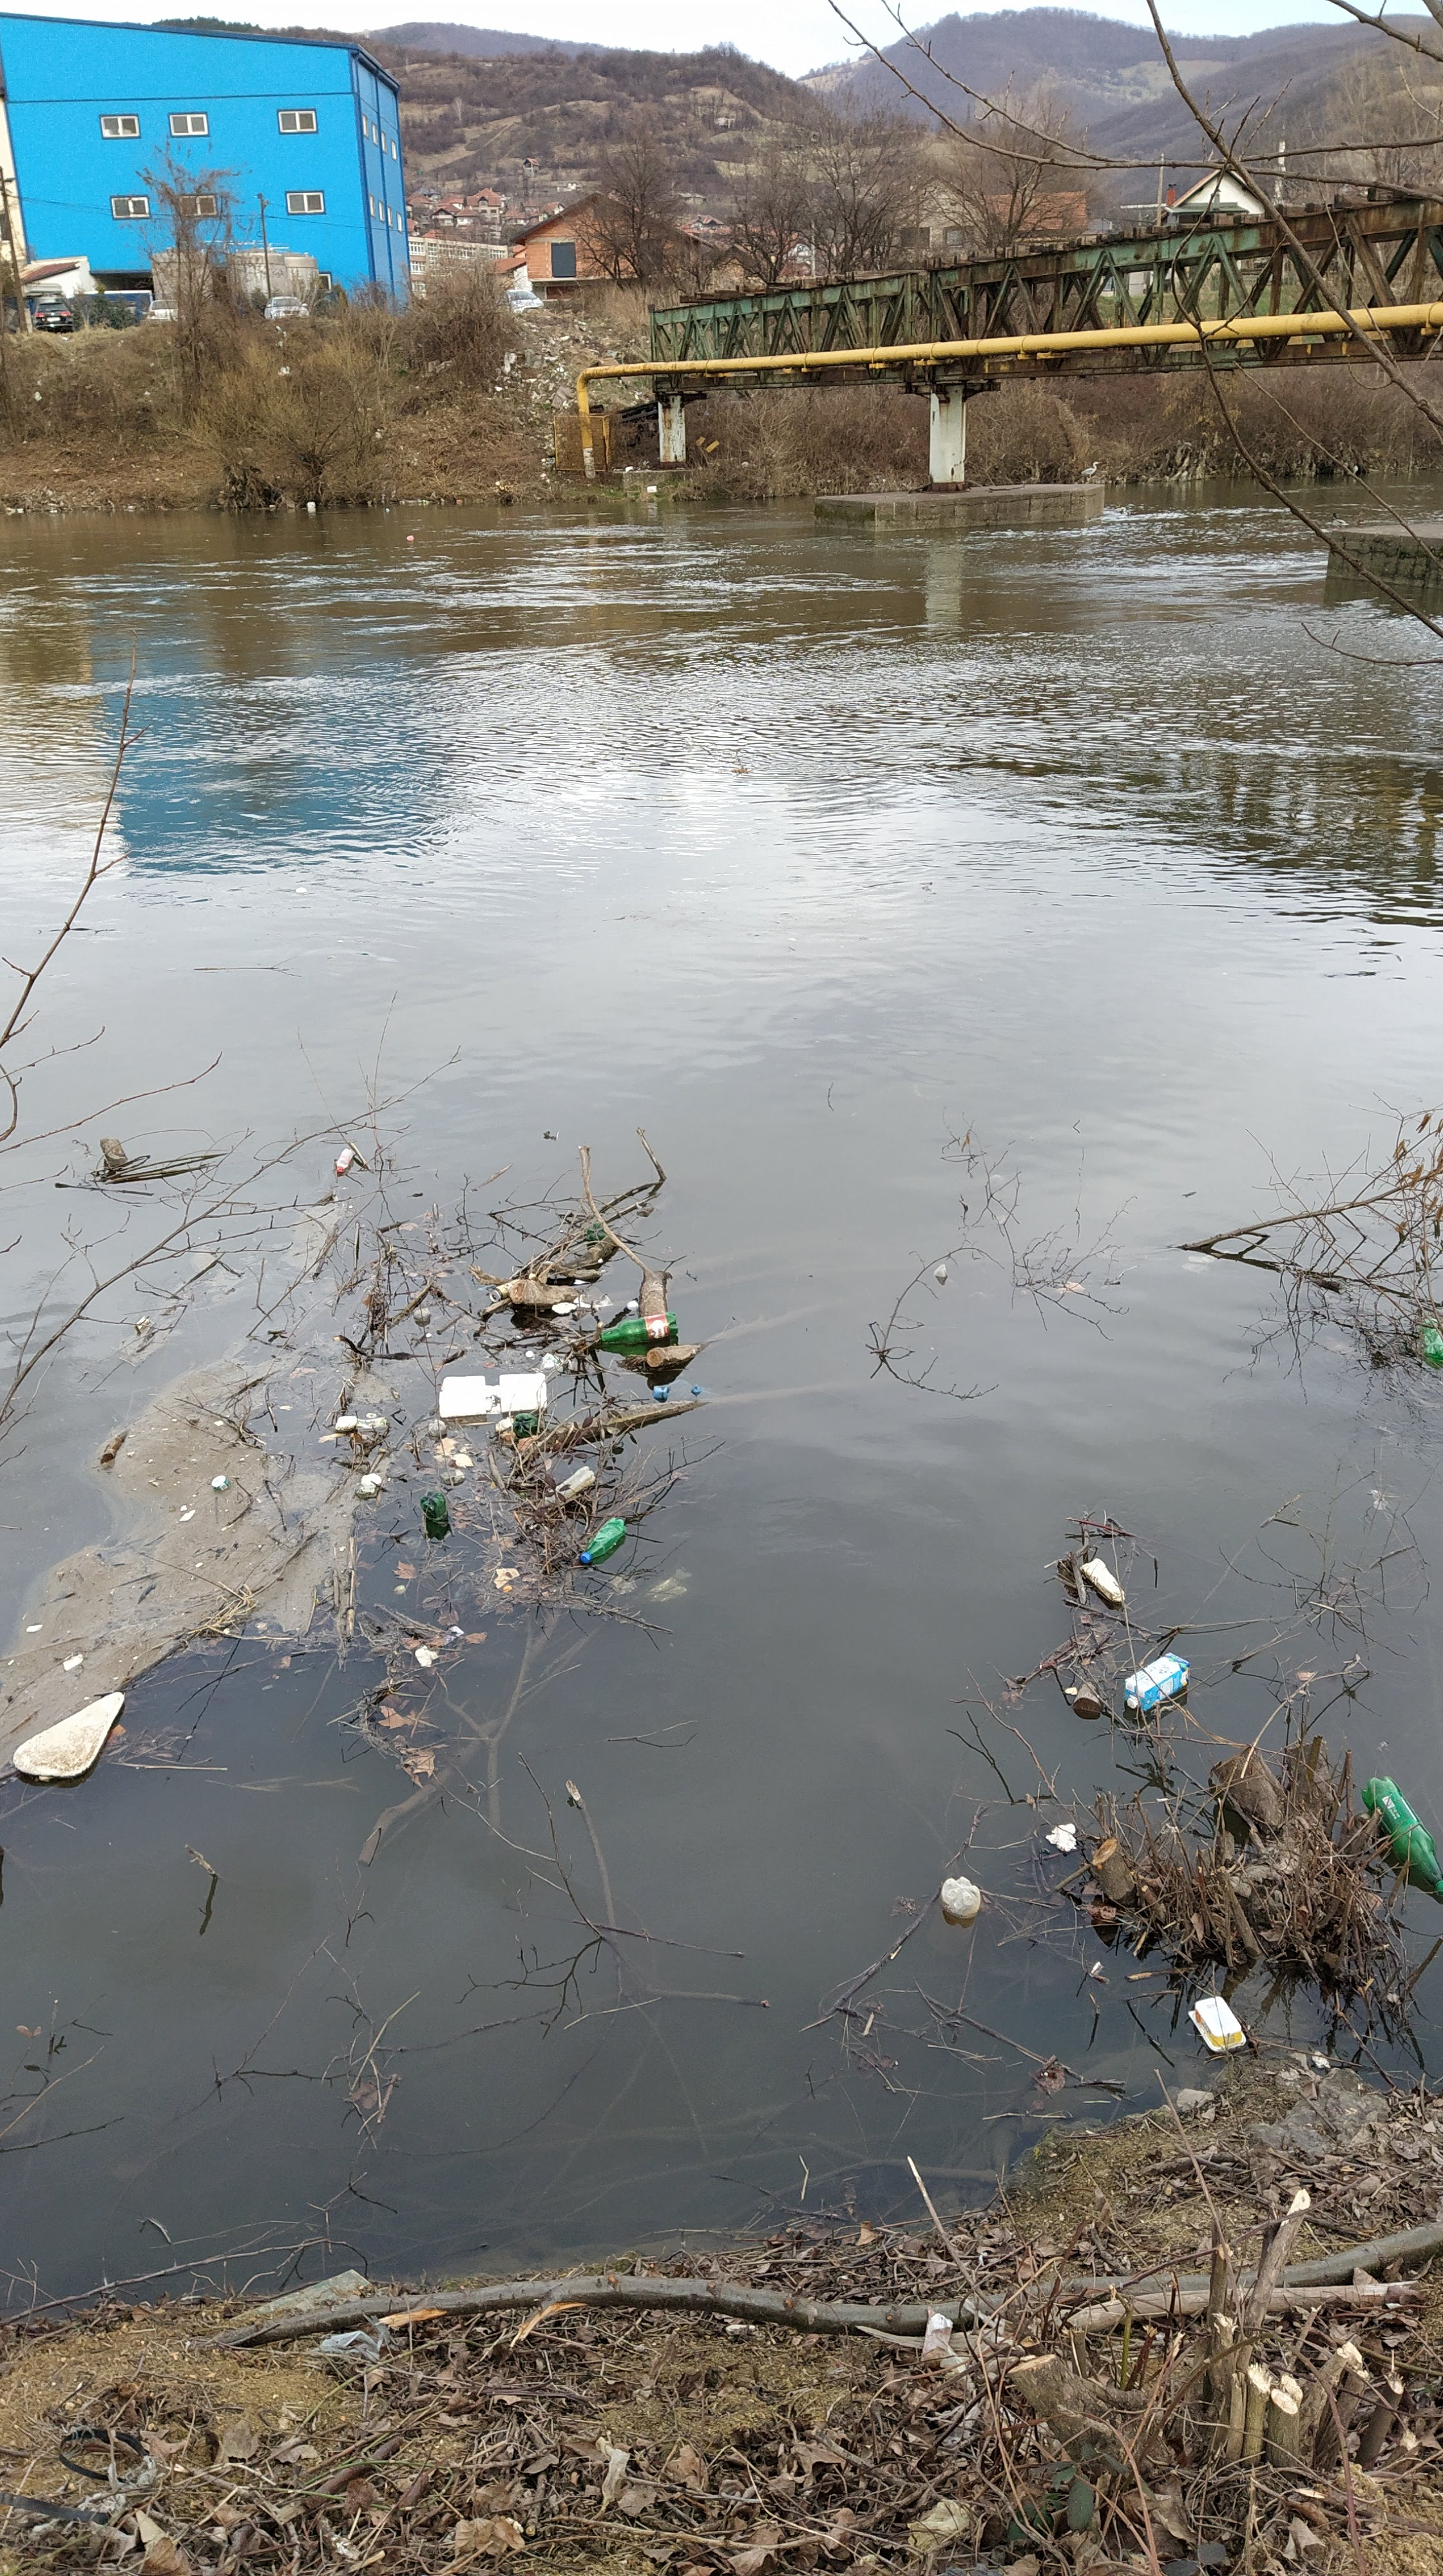Plastic Bottle: (1362, 1776, 1443, 1897), (600, 1311, 678, 1345), (542, 1465, 595, 1507), (581, 1518, 627, 1562), (940, 1877, 981, 1918), (1424, 1318, 1443, 1361), (421, 1490, 446, 1518), (513, 1414, 536, 1437), (335, 1148, 352, 1171), (428, 1419, 446, 1437), (211, 1474, 228, 1490), (407, 534, 413, 541)
